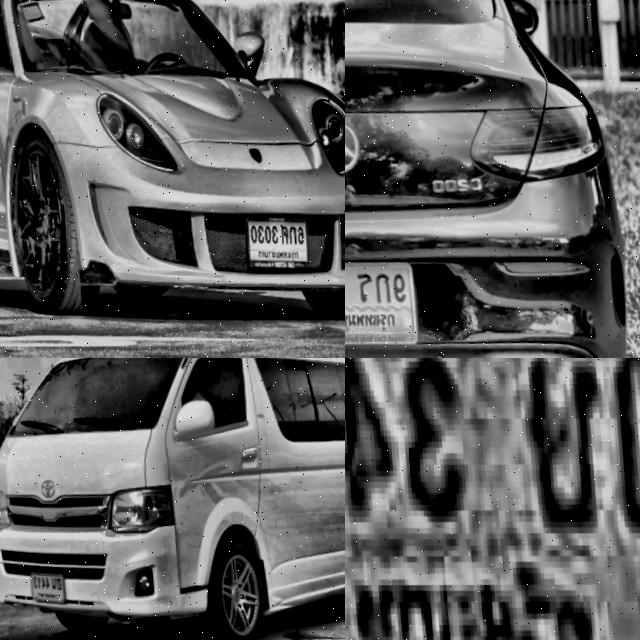license-plate: (345, 358, 640, 640), (345, 246, 419, 351), (242, 201, 312, 267), (27, 565, 66, 605)
